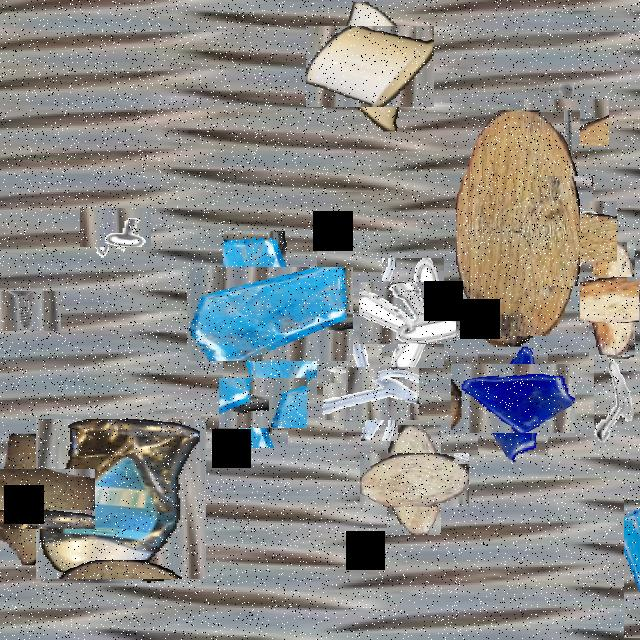glass: (205, 249, 335, 380), (464, 349, 562, 447), (624, 500, 640, 638)
metal: (519, 188, 605, 274), (370, 270, 456, 356), (334, 356, 408, 430), (228, 369, 298, 438), (534, 89, 600, 156), (594, 356, 640, 452), (88, 200, 144, 255), (0, 280, 50, 341)
plastic: (38, 417, 204, 582), (318, 13, 422, 118)
wood: (456, 110, 580, 345), (0, 451, 77, 547), (373, 439, 455, 521), (571, 259, 640, 341)
